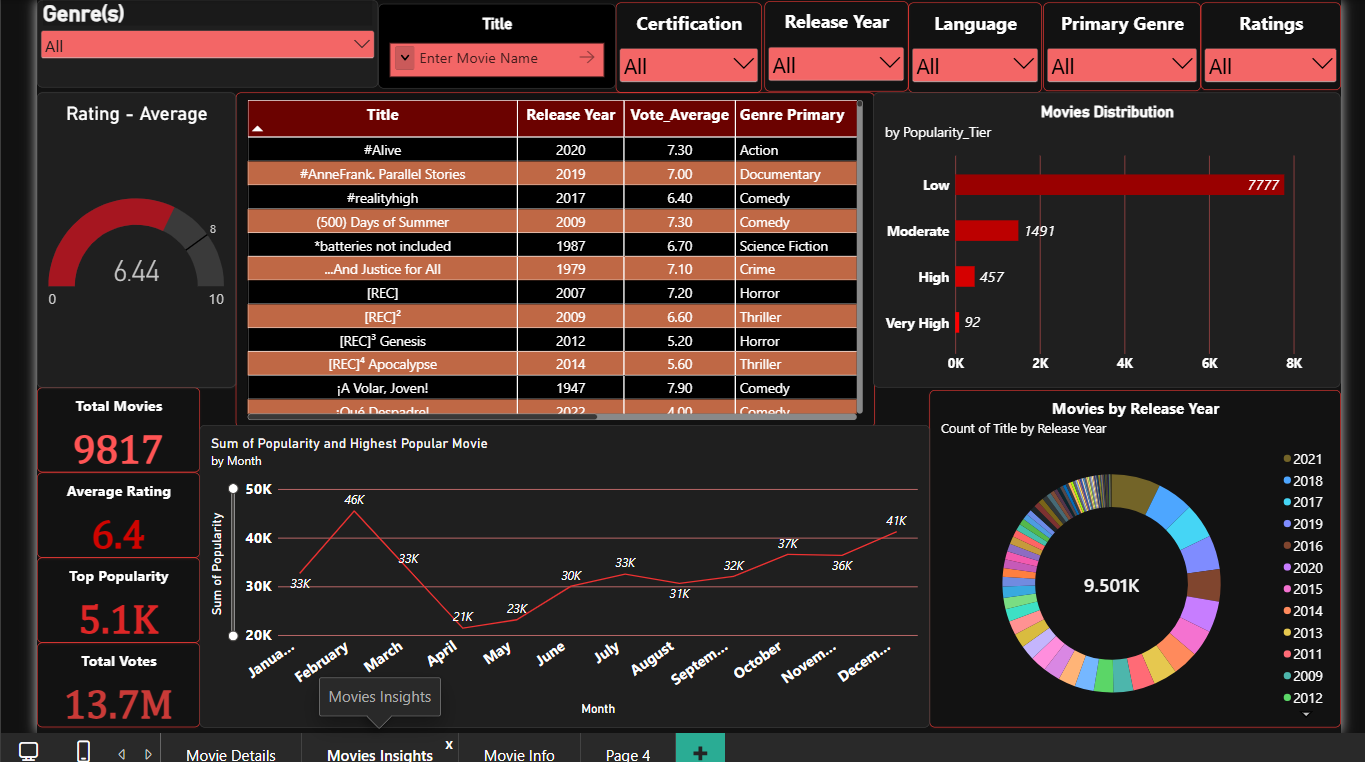

Layout of this report page (visuals, bound fields, positions):
{"tool":"powerbi","page":{"name":"Movies Insights","canvas":[1920,1080],"ordinal":1},"visuals":[{"type":"card","title":"Total Movies","fields":{"Values":["_Measures.Total Movies"]},"box":[0,570.6,240,125],"z":0},{"type":"card","title":"Top Popularity","fields":{"Values":["_Measures.Top Popularity"]},"box":[0,820.9,239.8,125.3],"z":1000},{"type":"card","title":"Total Votes","fields":{"Values":["_Measures.Total Votes"]},"box":[0,946,240,125],"z":2000},{"type":"card","title":"Average Rating","fields":{"Values":["_Measures.Average Rating"]},"box":[0,695.7,239.8,125.3],"z":3000},{"type":"tableEx","fields":{"Values":["mymoviedb.Title","mymoviedb.Release Year","mymoviedb.Vote_Average","mymoviedb.Genre Primary"]},"box":[292.6,136.2,940.5,493.3],"z":4000},{"type":"slicer","title":"Release Year","fields":{"Values":["mymoviedb.Release Year"]},"box":[1071.2,1.8,211.7,132.5],"z":5000},{"type":"slicer","title":"Ratings","fields":{"Values":["mymoviedb.Rating_Category"]},"box":[1713.5,3.7,206.1,128.8],"z":6000},{"type":"slicer","title":"Language","fields":{"Values":["mymoviedb.Original_Language"]},"box":[1282.8,3.7,196.9,132.5],"z":7000},{"type":"slicer","title":"Primary Genre","fields":{"Values":["mymoviedb.Genre Primary"]},"box":[1481.6,3.7,231.9,130.7],"z":8000},{"type":"slicer","title":"Certification","fields":{"Values":["mymoviedb.Age_Rating"]},"box":[852.2,3.7,215.3,132.5],"z":9000},{"type":"donutChart","title":"Movies by Release Year","fields":{"Category":["mymoviedb.Release Year"],"Y":["Count(mymoviedb.Title)"]},"box":[1314.1,574.2,605.5,496.9],"z":10000},{"type":"slicer","fields":{"Values":["mymoviedb.Genre"]},"box":[0,0,502.5,128.8],"z":11000},{"type":"lineChart","fields":{"Category":["mymoviedb.Release_Date.Variation.Date Hierarchy.Year","mymoviedb.Release_Date.Variation.Date Hierarchy.Quarter","mymoviedb.Release_Date.Variation.Date Hierarchy.Month","mymoviedb.Release_Date.Variation.Date Hierarchy.Day"],"Y":["Sum(mymoviedb.Popularity)"]},"box":[239.3,625.8,1074.9,445.4],"z":12000},{"type":"gauge","fields":{"MaxValue":["_Measures.Gauge Maximum"],"MinValue":["_Measures.Gauge Minimum"],"TargetValue":["_Measures.Gauge Target"],"Y":["_Measures.Average Movie Rating"]},"box":[0,136.2,292.6,434.4],"z":13000},{"type":"clusteredBarChart","title":"Movies Distribution","fields":{"Category":["mymoviedb.Popularity_Tier"],"Y":["CountNonNull(mymoviedb.Title)"]},"box":[1231.3,136.2,688.3,434.4],"z":14000},{"type":"textSlicer","fields":{"Values":["mymoviedb.Title"]},"box":[502.5,5.5,349.7,125.2],"z":15000}]}

Visuals, with their boxes on the page's 1920x1080 design canvas (x1, y1, x2, y2). These are canvas units, not pixel positions in the 1365x762 screenshot, which may show the page scaled, cropped or inside an application window:
"Total Movies" card: x1=0 y1=571 x2=240 y2=696
"Top Popularity" card: x1=0 y1=821 x2=240 y2=946
"Total Votes" card: x1=0 y1=946 x2=240 y2=1071
"Average Rating" card: x1=0 y1=696 x2=240 y2=821
tableEx - mymoviedb.Title x mymoviedb.Release Year: x1=293 y1=136 x2=1233 y2=630
"Release Year" slicer: x1=1071 y1=2 x2=1283 y2=134
"Ratings" slicer: x1=1714 y1=4 x2=1920 y2=132
"Language" slicer: x1=1283 y1=4 x2=1480 y2=136
"Primary Genre" slicer: x1=1482 y1=4 x2=1714 y2=134
"Certification" slicer: x1=852 y1=4 x2=1068 y2=136
"Movies by Release Year" donutChart: x1=1314 y1=574 x2=1920 y2=1071
slicer - mymoviedb.Genre: x1=0 y1=0 x2=502 y2=129
lineChart - mymoviedb.Release_Date.Variation.Date Hierarchy.Year x mymoviedb.Release_Date.Variation.Date Hierarchy.Quarter: x1=239 y1=626 x2=1314 y2=1071
gauge - _Measures.Gauge Maximum x _Measures.Gauge Minimum: x1=0 y1=136 x2=293 y2=571
"Movies Distribution" clusteredBarChart: x1=1231 y1=136 x2=1920 y2=571
textSlicer - mymoviedb.Title: x1=502 y1=6 x2=852 y2=131
